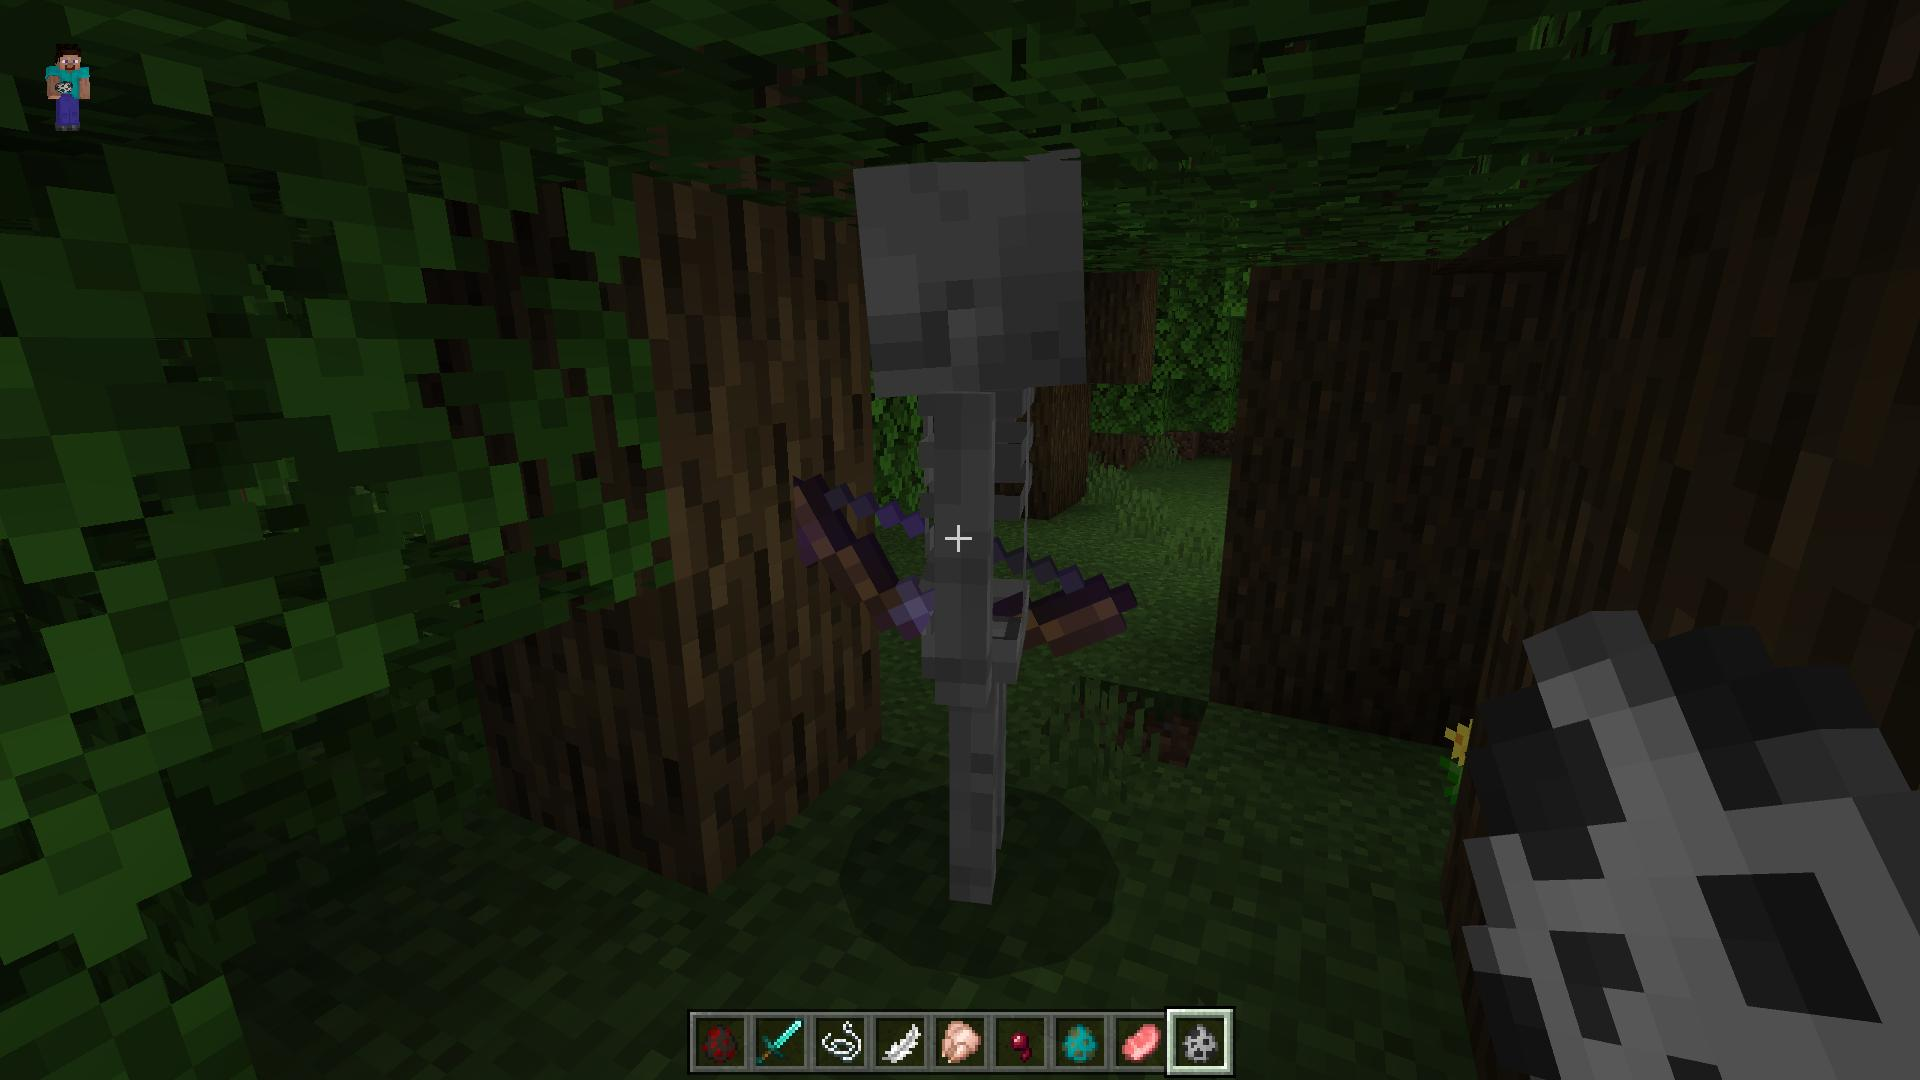skeleton: (794, 144, 1135, 907)
